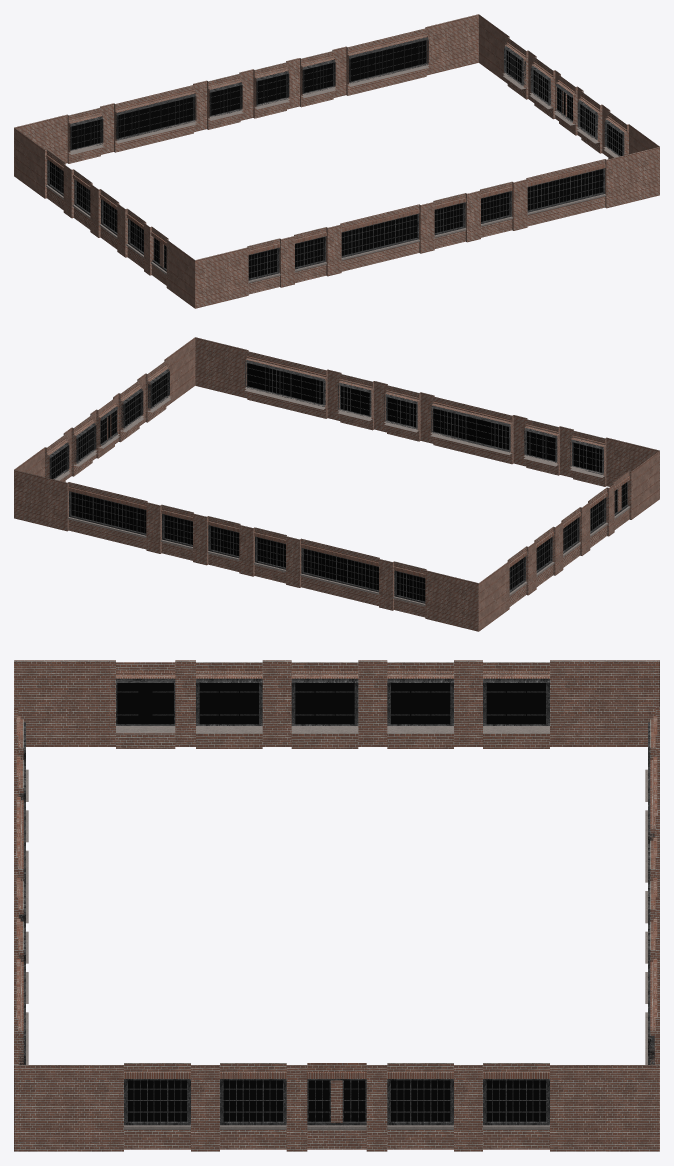
The model's file is BuildingA_Mid_Shell_VarB.fbx.
3 views of the same model, one above another, from view 1: azimuth 30°, elevation 25°; view 2: azimuth 150°, elevation 25°; view 3: azimuth 270°, elevation 25° (orthographic). The views are drawn at different scales.
Visible parts, largest first — view 1: BuildingA_Mid_Shell_VarB; view 2: BuildingA_Mid_Shell_VarB; view 3: BuildingA_Mid_Shell_VarB.
Boxes of the visible parts, x1,y1,x2,y2 form: BuildingA_Mid_Shell_VarB: [14, 14, 659, 308]; BuildingA_Mid_Shell_VarB: [14, 337, 659, 631]; BuildingA_Mid_Shell_VarB: [14, 660, 659, 1151].
Size of the model in its own units: 4000 by 400 by 2700.
